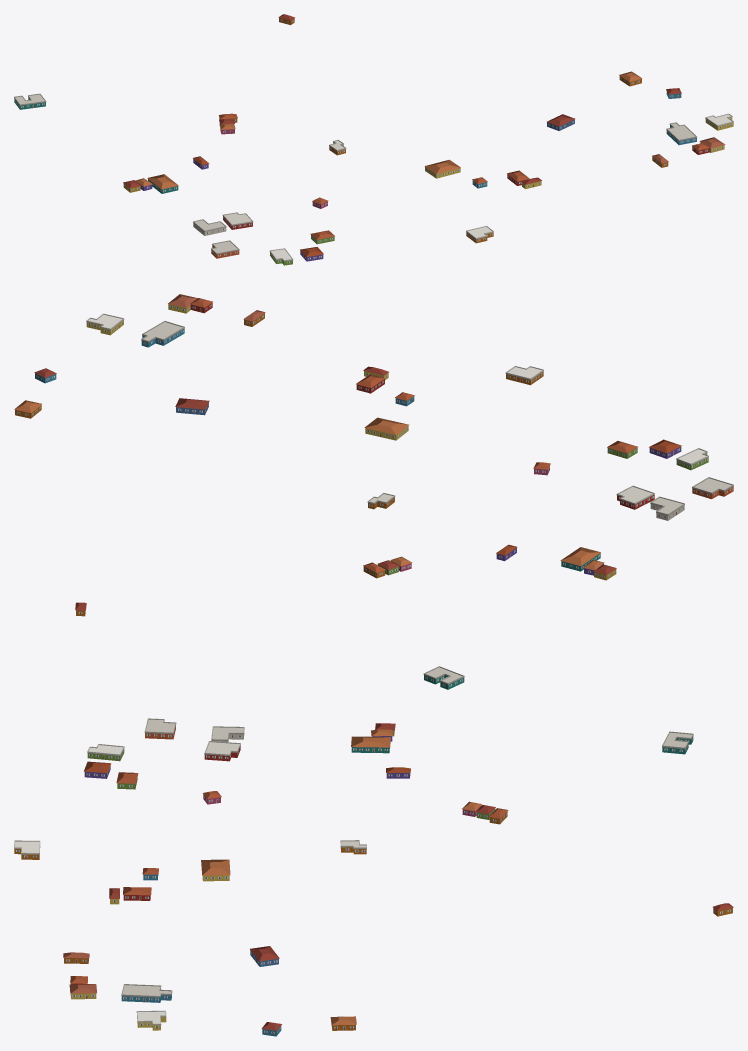
The model's file is msb_noord_m14_m12.glb.
3 renders of one model, top to bottom at view 1: azimuth 30°, elevation 25°; view 2: azimuth 150°, elevation 25°; view 3: azimuth 270°, elevation 25°, orthographic. The views are drawn at different scales.
Visible parts, largest first — view 1: msb_noord_m14_m12_lod0; view 2: msb_noord_m14_m12_lod0; view 3: msb_noord_m14_m12_lod0.
Boxes of the visible parts, <box> form: msb_noord_m14_m12_lod0: <box>14,14,733,265</box>; msb_noord_m14_m12_lod0: <box>14,294,733,689</box>; msb_noord_m14_m12_lod0: <box>14,718,733,1036</box>.
Size of what is drawn, in the model's own units: 402 by 20.54 by 384.
Materials: 3 (1 with a texture image).
